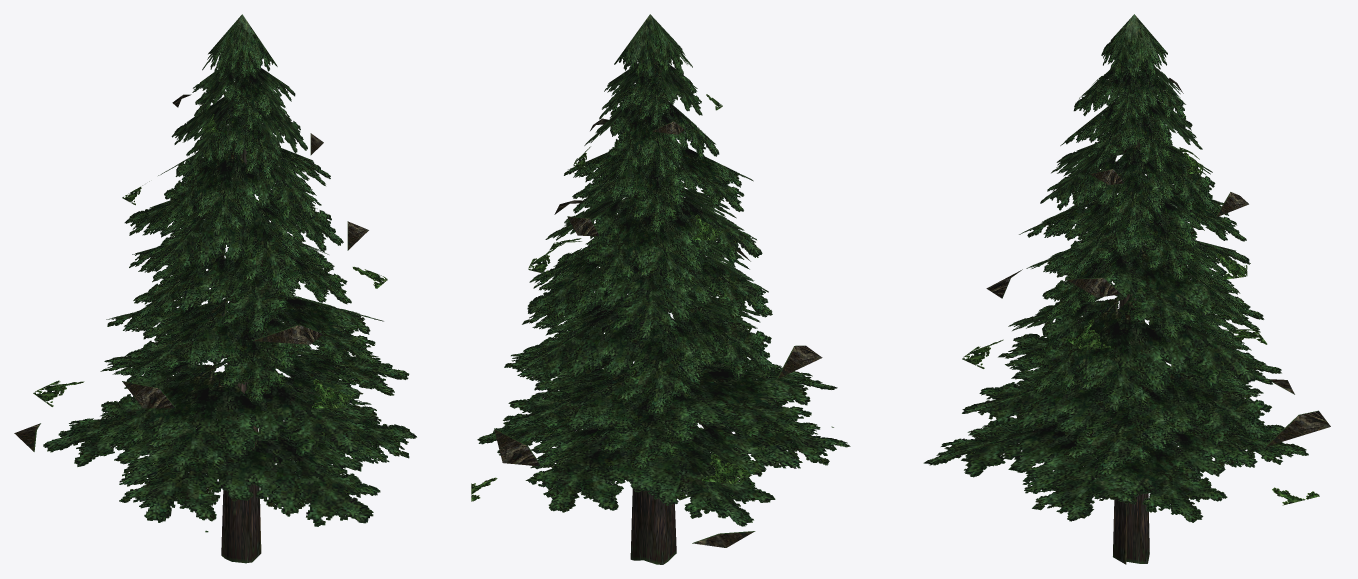
File: tree_pine_06.glb
The picture shows the model from 3 angles, left to right: view 1: azimuth 30°, elevation 25°; view 2: azimuth 150°, elevation 25°; view 3: azimuth 270°, elevation 25°; orthographic projection.
Visible parts, largest first — view 1: tree_pine_06; view 2: tree_pine_06; view 3: tree_pine_06.
Part boxes in pixels (x1,y1,x2,y2): tree_pine_06: [14, 14, 416, 563]; tree_pine_06: [471, 14, 850, 564]; tree_pine_06: [923, 14, 1330, 564].
Size of the model in its own units: 20.8 by 29.43 by 21.15.
1 material, 1 textured.
